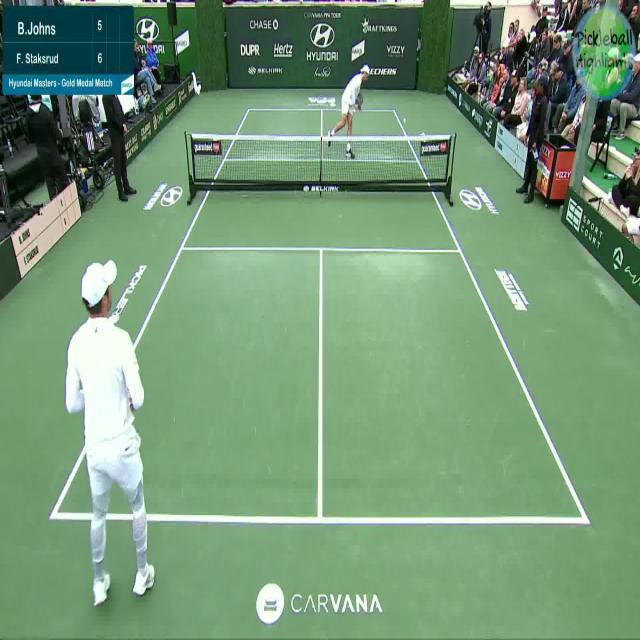ball: (402, 112, 411, 128)
